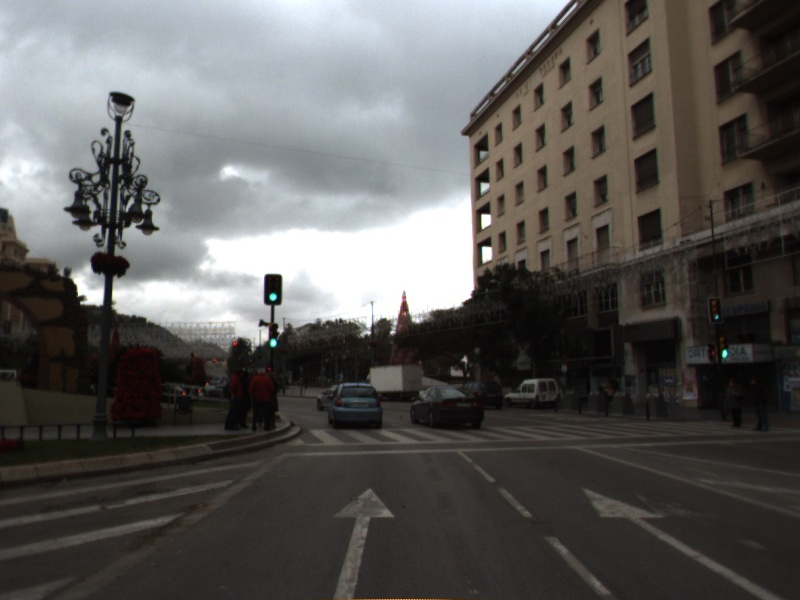STRAIGHT: (579, 484, 785, 600), (329, 485, 398, 600)
